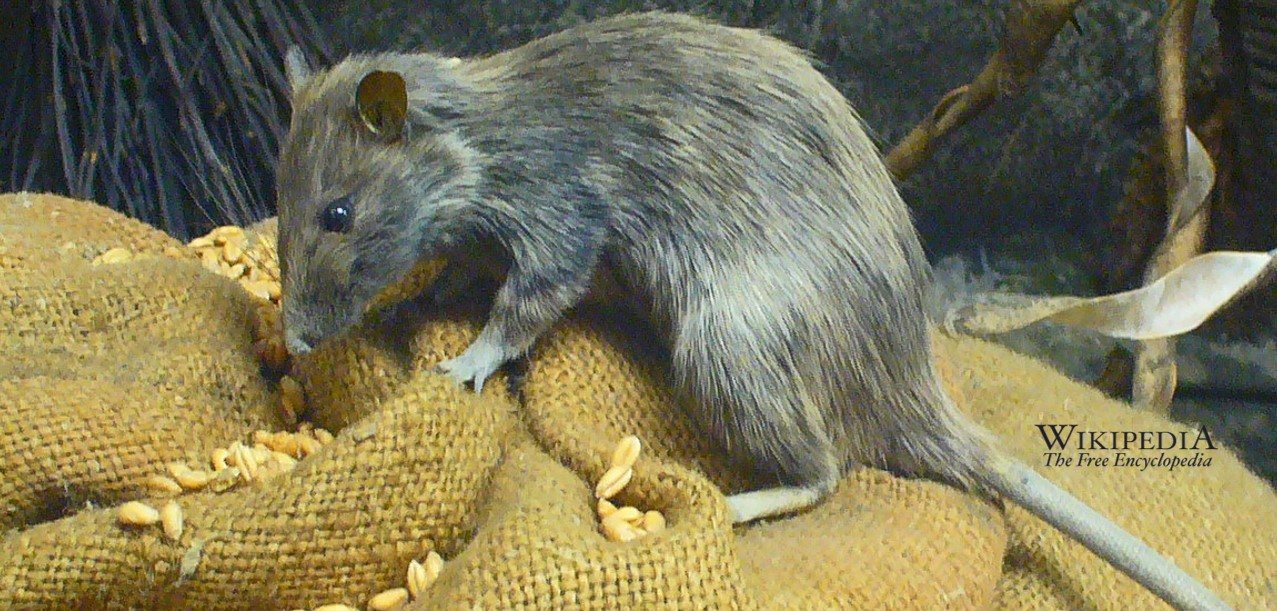mouse: (247, 24, 955, 539)
